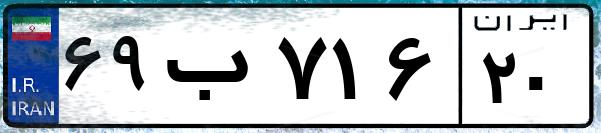0: (525, 38, 570, 115)
1: (330, 28, 385, 110)
2: (475, 38, 525, 113)
6: (385, 28, 445, 110), (57, 26, 110, 100)
7: (270, 28, 330, 110)
9: (110, 28, 158, 98)
ب: (158, 20, 270, 120)
